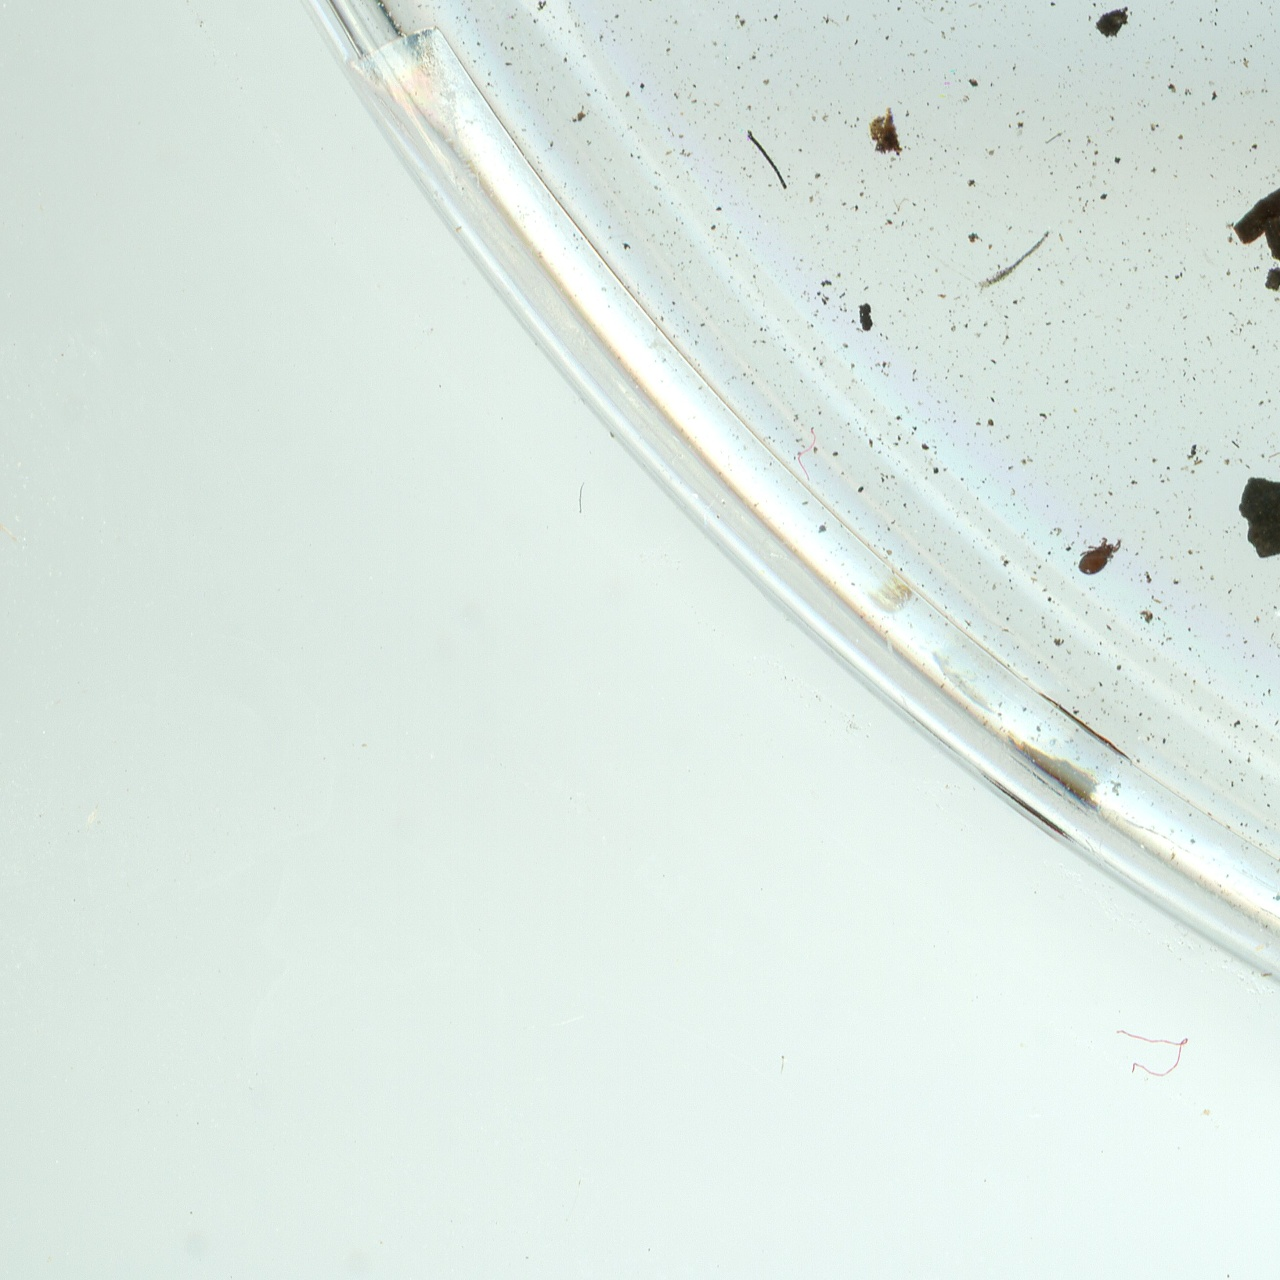arthropod: (1076, 532, 1123, 578)
